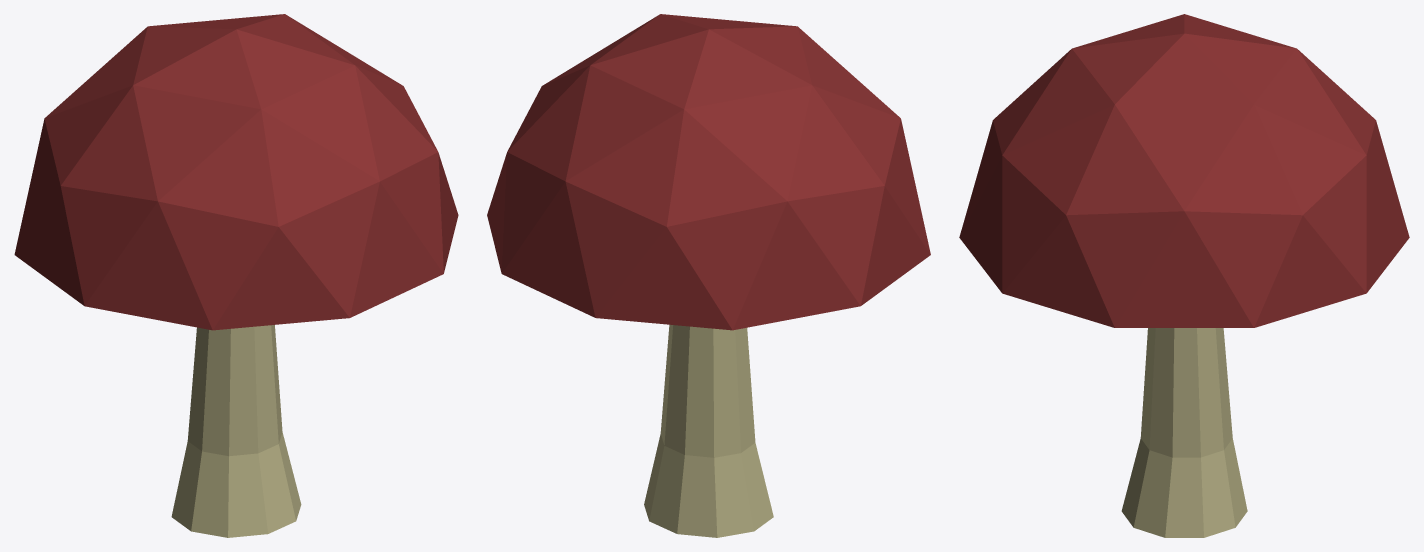
File: mushrooom01_red.fbx
The picture shows the model from 3 angles, left to right: view 1: azimuth 30°, elevation 25°; view 2: azimuth 150°, elevation 25°; view 3: azimuth 270°, elevation 25°; orthographic projection.
Visible parts, largest first — view 1: mushrooom01_red; view 2: mushrooom01_red; view 3: mushrooom01_red.
Boxes of the visible parts, x1=… form: mushrooom01_red: x1=14, y1=14, x2=458, y2=537; mushrooom01_red: x1=487, y1=14, x2=930, y2=537; mushrooom01_red: x1=959, y1=14, x2=1409, y2=537.
Size of the model in its own units: 59.22 by 72.89 by 62.27.
